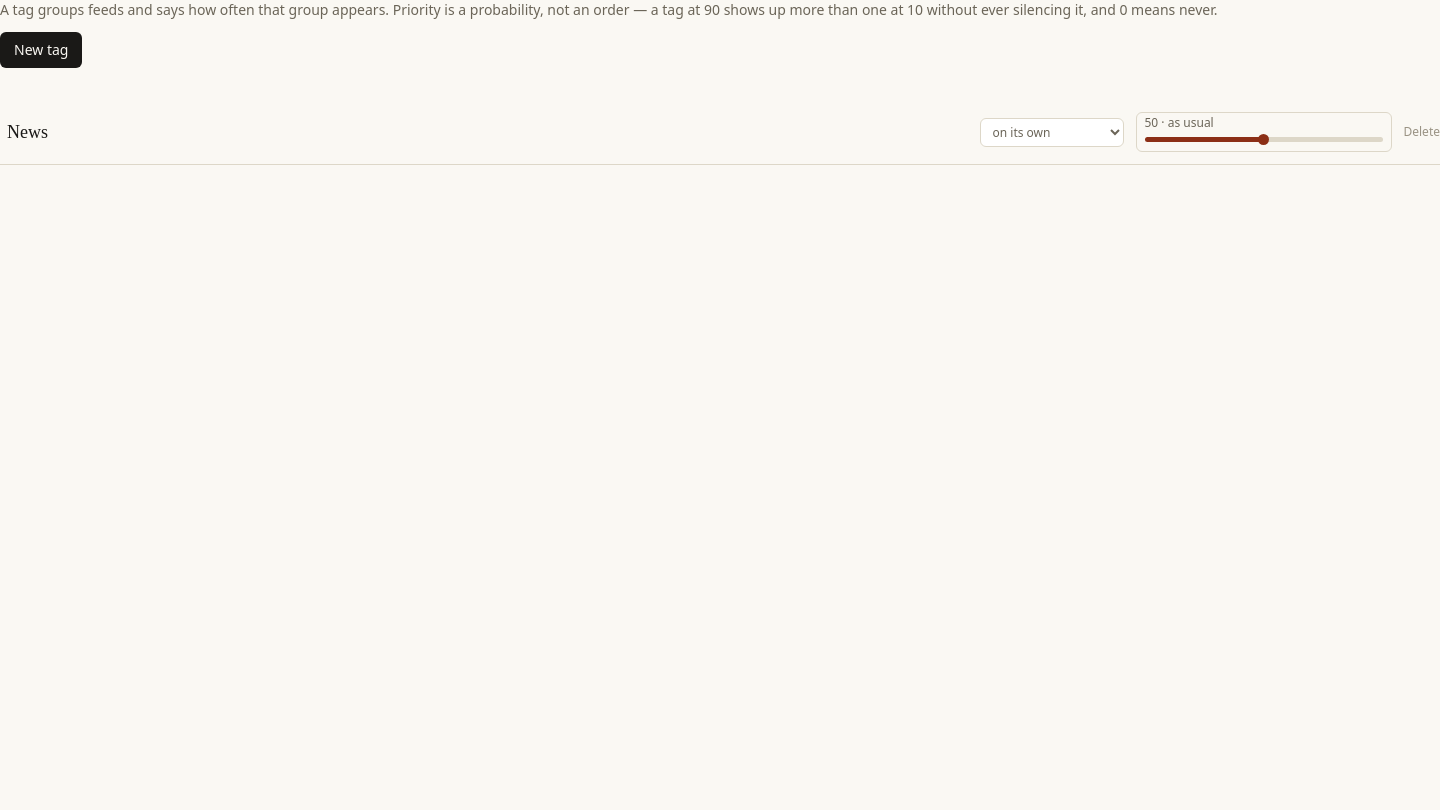
Test: TagsPage › makes a tag through the dialog and shows it in the list
Click the button "New tag". click: x=41, y=50
box: 0,32 -> 82,68
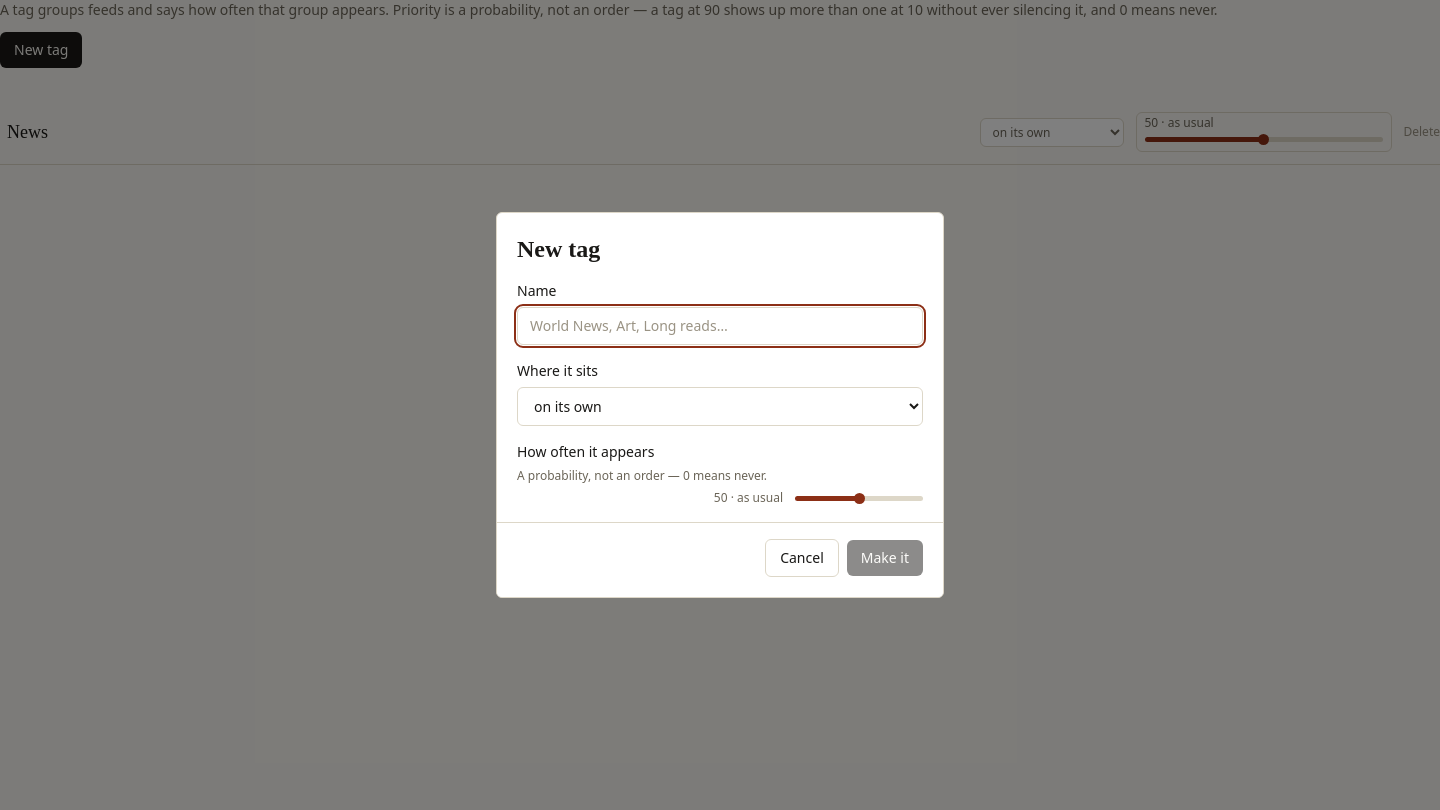
Type "Art" into the field labelled "Name". click: x=720, y=326
box: 517,307 -> 923,345
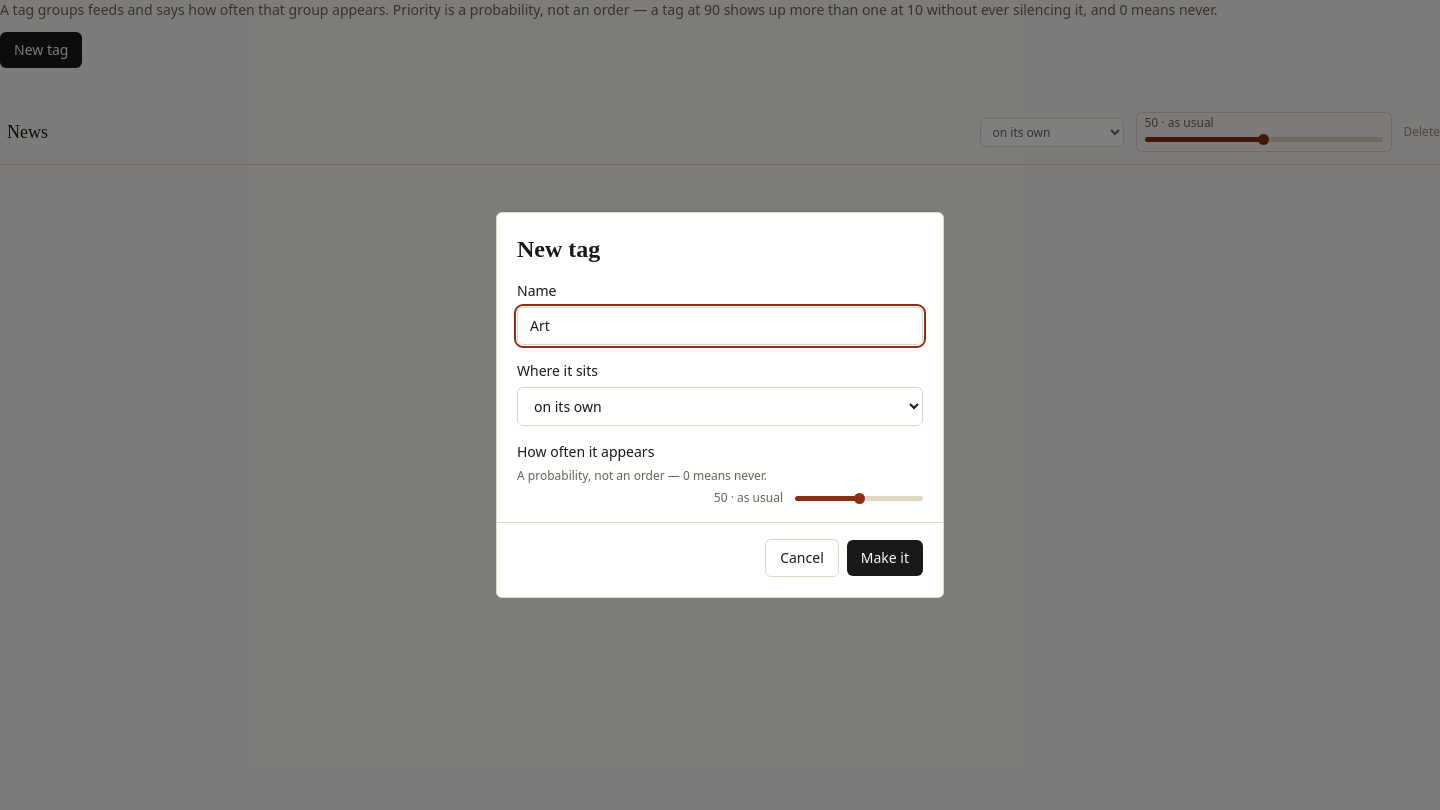
Click the button "Make it". click: x=885, y=558
box: 847,540 -> 923,576
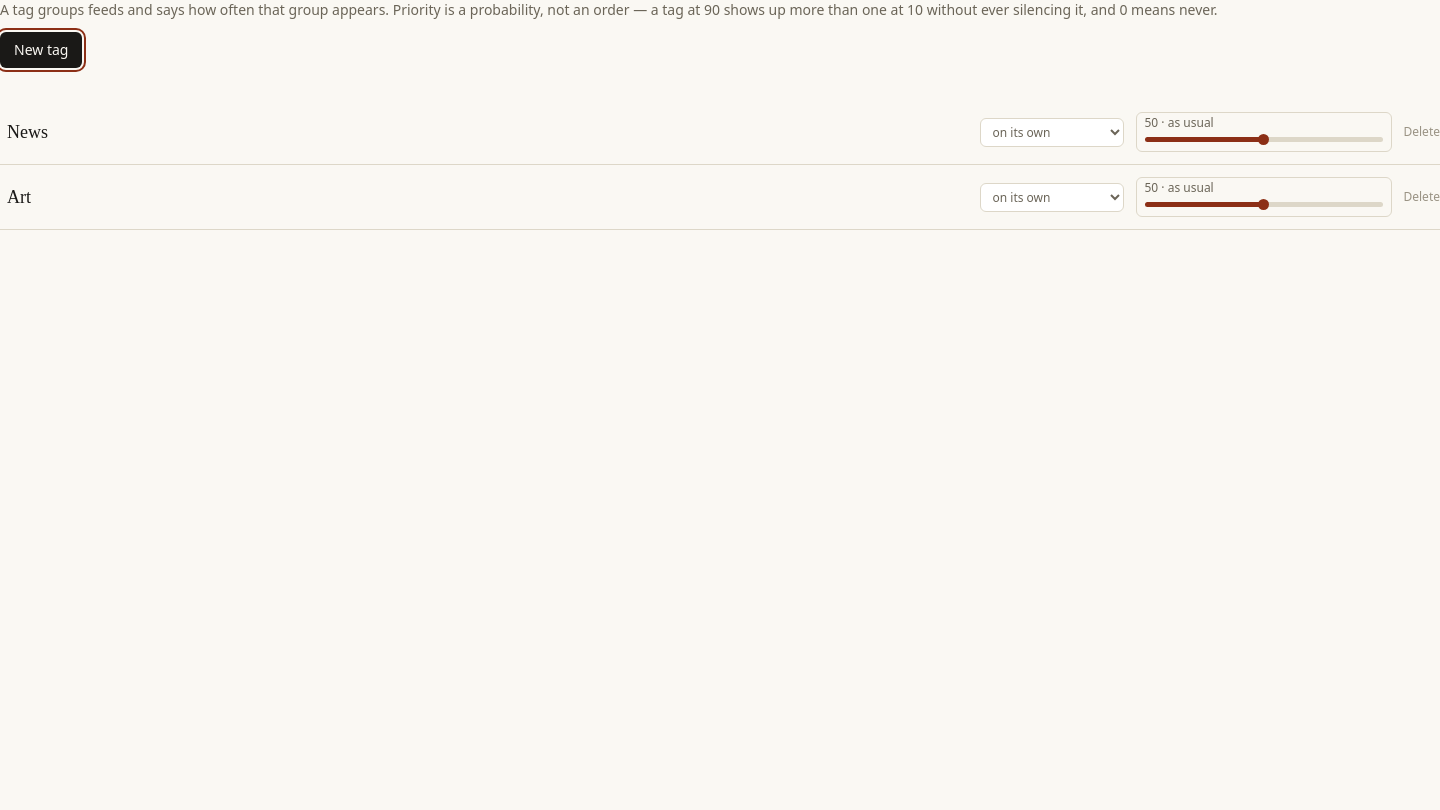
Now the field named "Name of Art" is shown, box 0,178 -> 176,216
